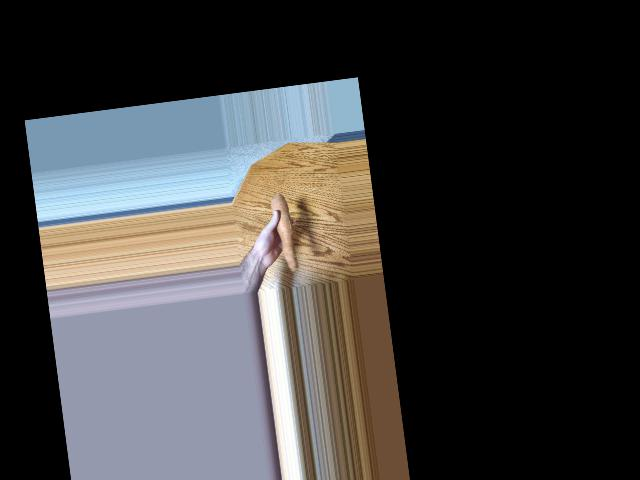sweet_potato: (272, 193, 300, 276)
